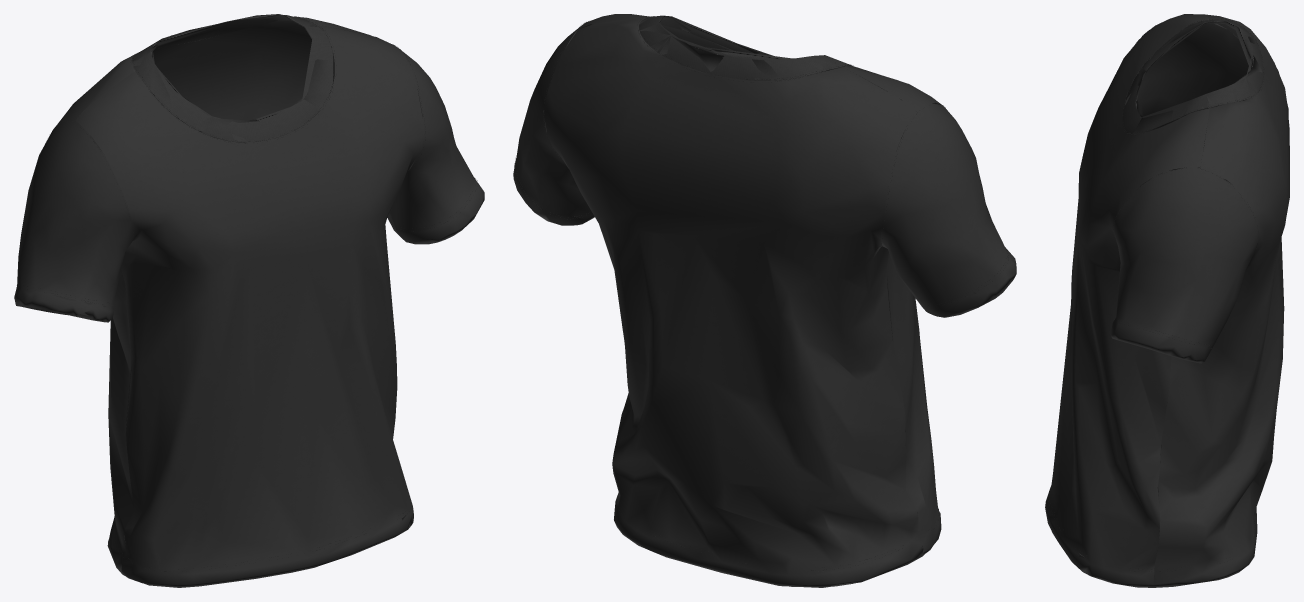
Rendered from shirt.glb.
3 renders of one model, left to right at view 1: azimuth 30°, elevation 25°; view 2: azimuth 150°, elevation 25°; view 3: azimuth 270°, elevation 25°, orthographic. The views are drawn at different scales.
Parts seen in each view (by area): view 1: Node; view 2: Node; view 3: Node.
Part boxes in pixels (x1,y1,x2,y2): Node: (14,14,484,587); Node: (513,14,1016,587); Node: (1045,14,1289,587).
Bounding box in the file's own units: 635 × 647 × 300.
3 materials, 3 textured.
